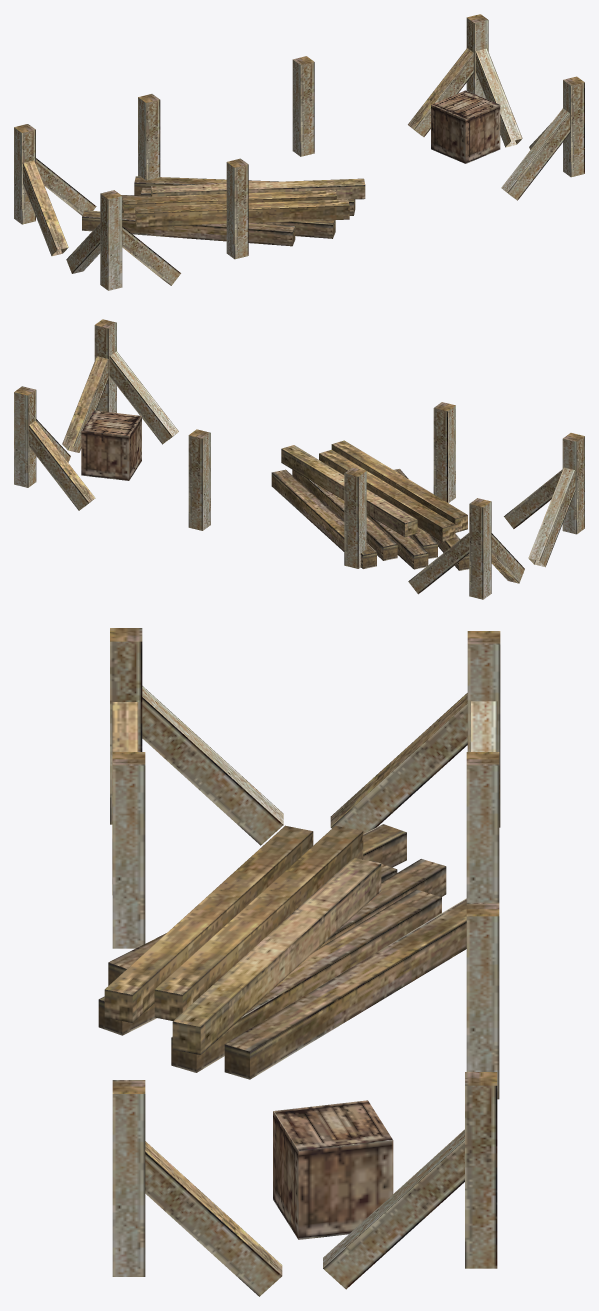
The model's file is found_1x3.dae.
The picture shows the model from 3 angles, top to bottom: view 1: azimuth 30°, elevation 25°; view 2: azimuth 150°, elevation 25°; view 3: azimuth 270°, elevation 25°; orthographic projection. The views are drawn at different scales.
Parts seen in each view (by area): view 1: Object14_Pivot001; view 2: Object14_Pivot001; view 3: Object14_Pivot001.
Part boxes in pixels (x1,y1,x2,y2): Object14_Pivot001: [14, 14, 584, 290]; Object14_Pivot001: [14, 319, 584, 599]; Object14_Pivot001: [98, 628, 500, 1296].
Size of the model in its own units: 14.59 by 3 by 5.31.
